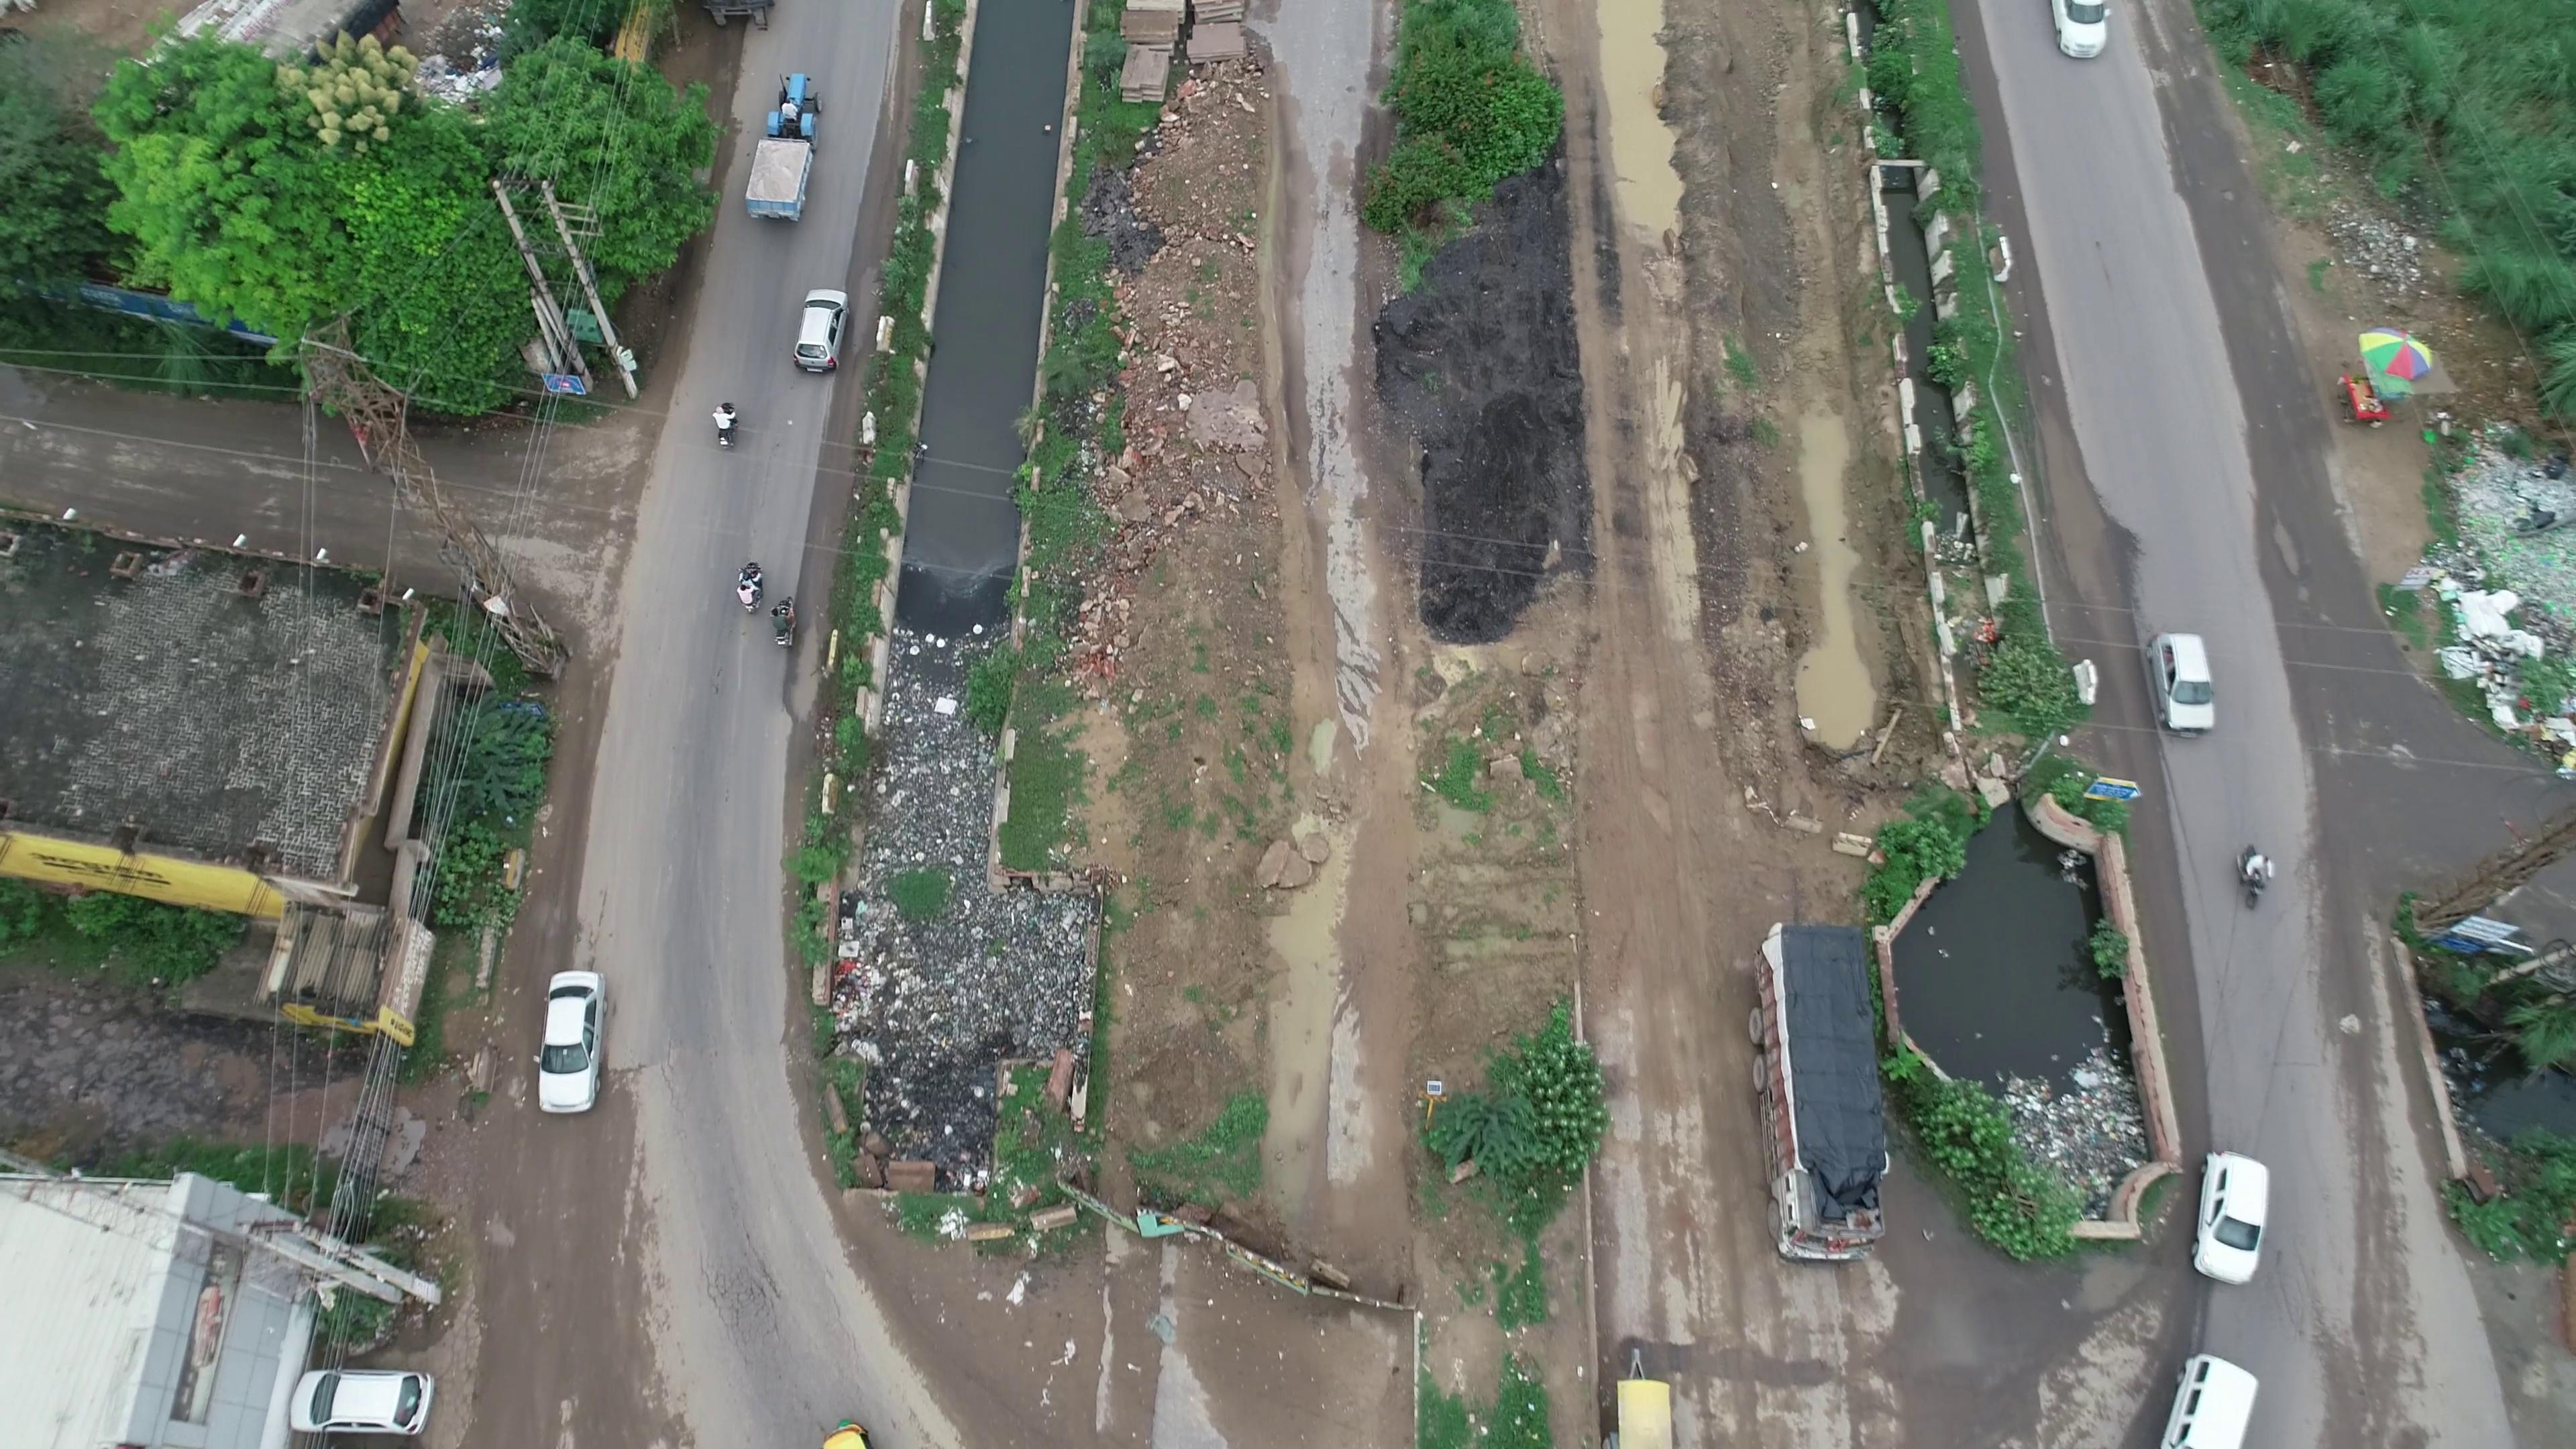Potholes: (2229, 479, 2342, 640)
